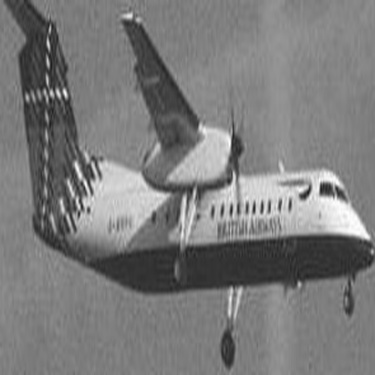airplane: (1, 2, 373, 373)
